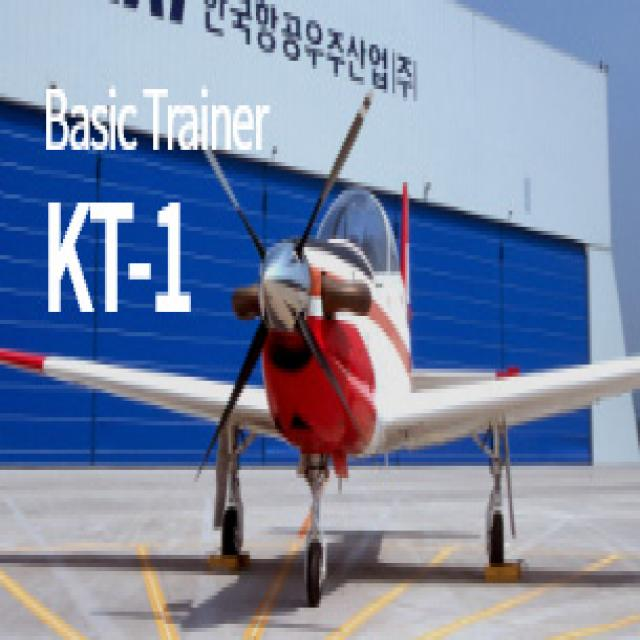KT-1: (2, 89, 640, 608)
